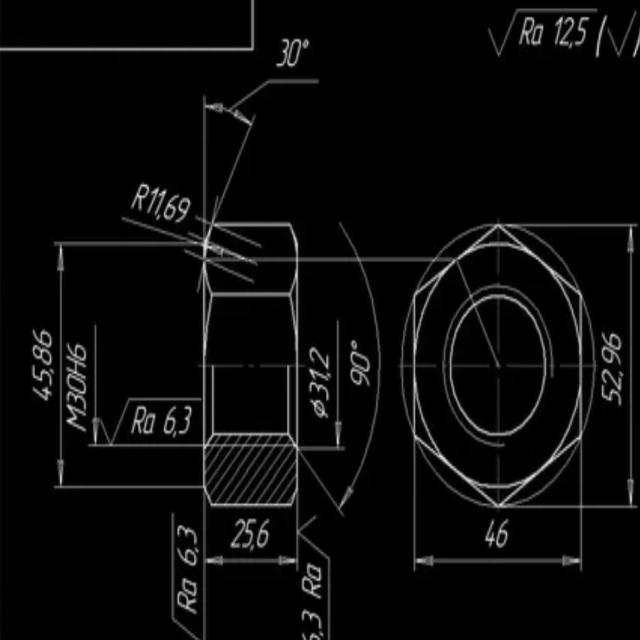marking_line: (52, 239, 203, 492), (299, 224, 380, 515), (201, 76, 321, 222), (585, 218, 639, 513), (83, 323, 198, 449), (411, 511, 586, 574), (200, 96, 255, 221), (201, 511, 295, 574), (301, 322, 341, 455)
numeric: (163, 401, 179, 438), (65, 356, 87, 379), (309, 345, 330, 368), (495, 517, 510, 549), (241, 518, 256, 549), (602, 345, 623, 367), (174, 196, 191, 223), (288, 38, 303, 68), (560, 16, 574, 48), (177, 524, 198, 545), (32, 346, 53, 367), (601, 384, 622, 405), (350, 365, 370, 387), (300, 609, 322, 629), (65, 391, 87, 411), (602, 370, 624, 390), (276, 37, 289, 70), (350, 351, 370, 372), (32, 365, 52, 386), (600, 332, 621, 352), (164, 194, 179, 221), (256, 518, 269, 549), (575, 13, 588, 44), (309, 380, 329, 400), (66, 374, 86, 394), (32, 329, 52, 348), (177, 548, 198, 566), (153, 190, 168, 215), (179, 404, 191, 434), (66, 342, 86, 360), (144, 188, 158, 213), (232, 518, 242, 553), (32, 384, 51, 402), (484, 519, 495, 548), (553, 16, 564, 44), (308, 366, 329, 379), (300, 631, 321, 640)
special_symbol: (486, 7, 598, 60), (101, 396, 199, 445), (168, 515, 201, 640), (299, 515, 331, 640), (606, 8, 637, 57), (591, 16, 609, 60), (310, 397, 330, 422), (350, 338, 358, 350)
